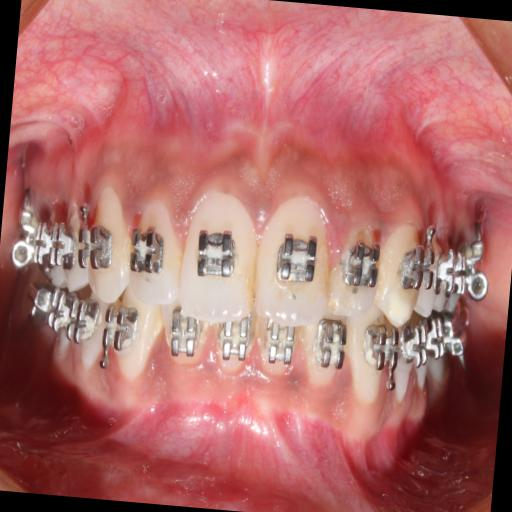correct_brace: (190, 215, 242, 298), (269, 221, 324, 297), (337, 237, 379, 297), (129, 222, 168, 278)
incorrect_brace: (126, 197, 184, 307), (328, 215, 384, 320)
